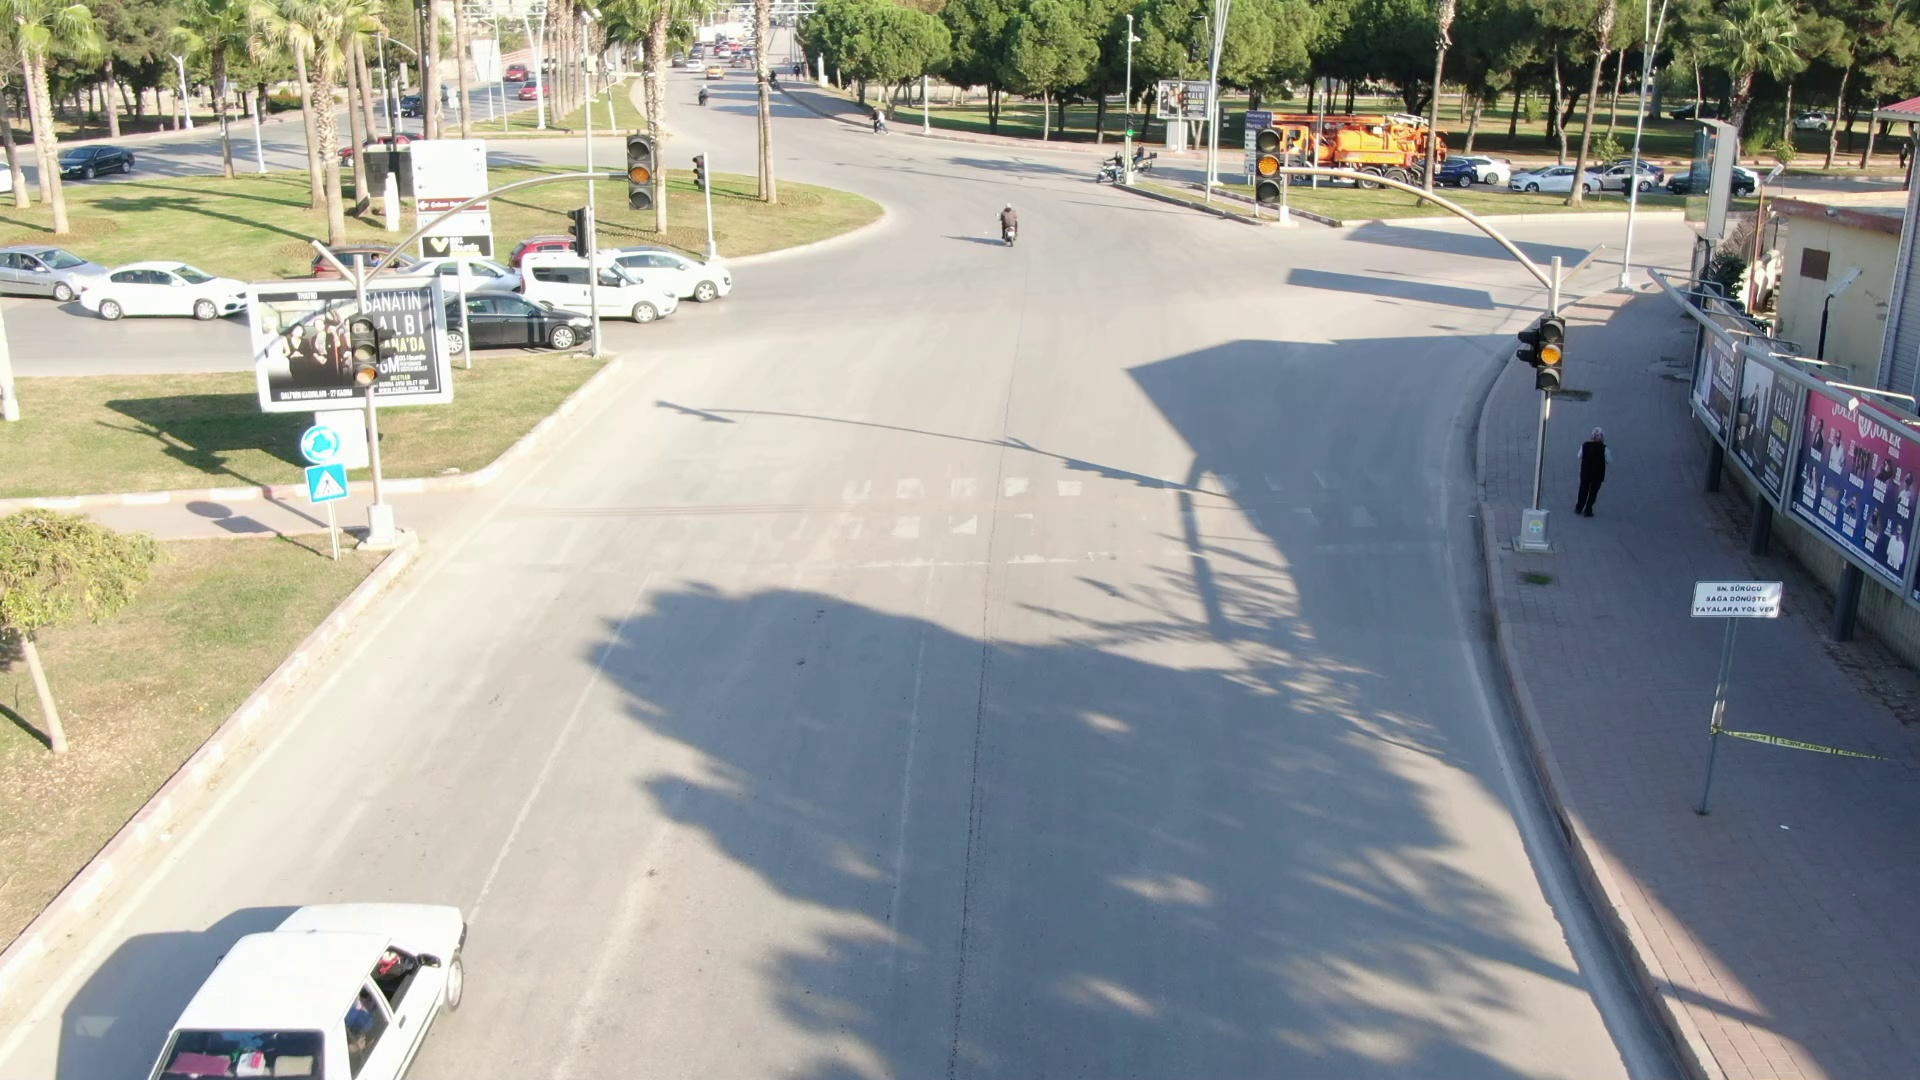car: (99, 886, 488, 1080), (486, 233, 692, 319), (51, 249, 257, 325)
person: (1561, 419, 1629, 512), (978, 206, 1029, 255)
